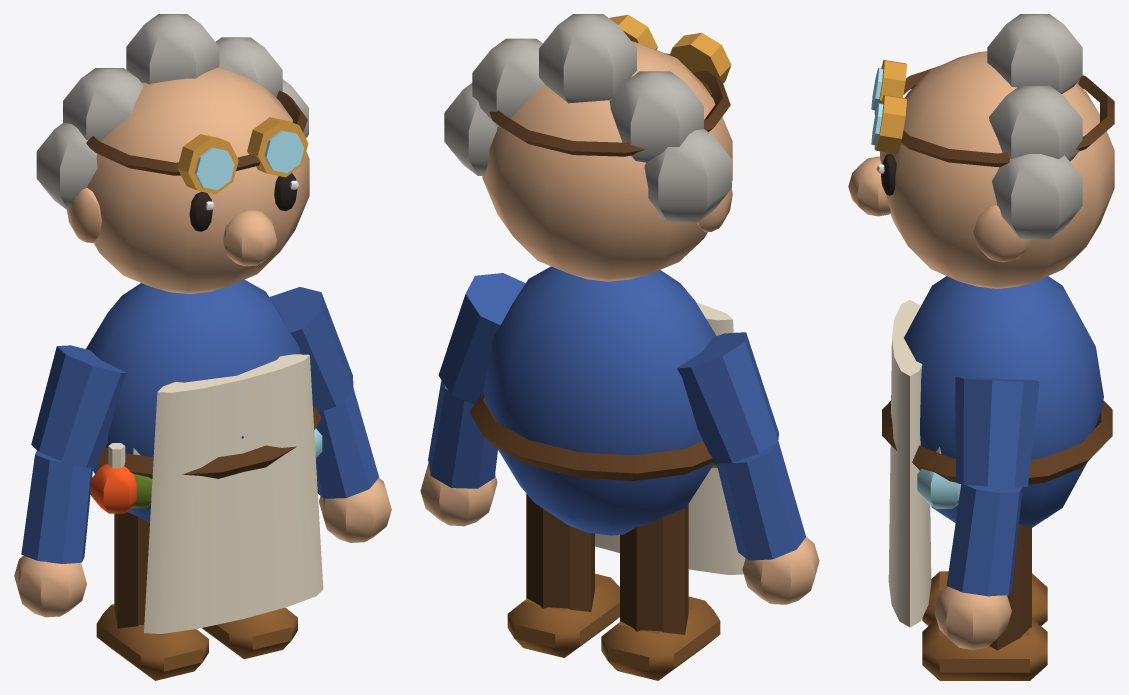
File: CH_Cust_22_Simyaci.fbx
3 renders of one model, left to right at view 1: azimuth 30°, elevation 25°; view 2: azimuth 150°, elevation 25°; view 3: azimuth 270°, elevation 25°, orthographic. The views are drawn at different scales.
Visible parts, largest first — view 1: CH_Cust_22_Simyaci; view 2: CH_Cust_22_Simyaci; view 3: CH_Cust_22_Simyaci.
Part boxes in pixels (x1,y1,x2,y2): CH_Cust_22_Simyaci: (14, 14, 391, 680); CH_Cust_22_Simyaci: (420, 14, 819, 680); CH_Cust_22_Simyaci: (848, 14, 1114, 680).
Bounding box in the file's own units: 0.7012 × 1.11 × 0.4252.
